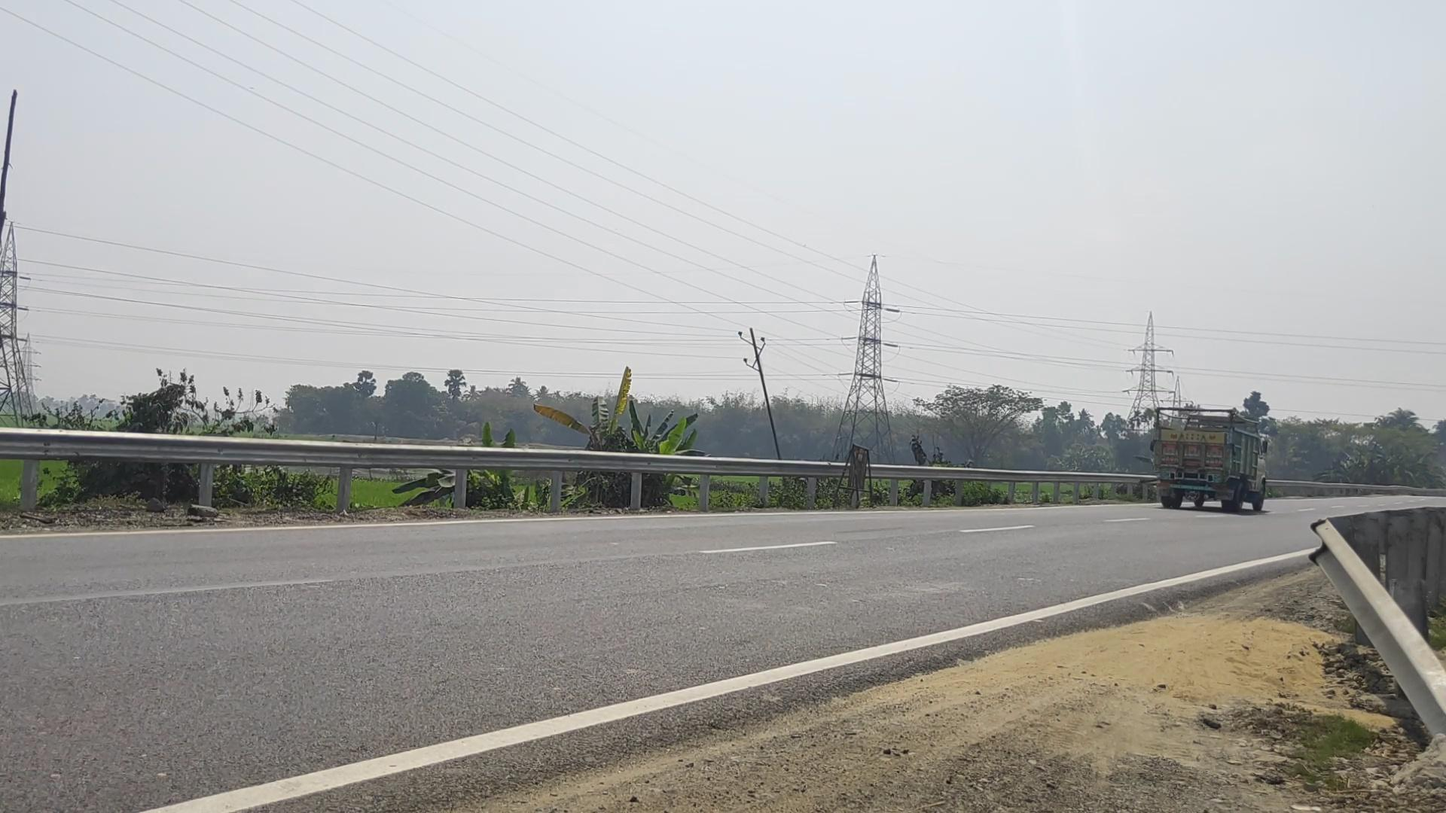truck: (1149, 406, 1268, 514)
